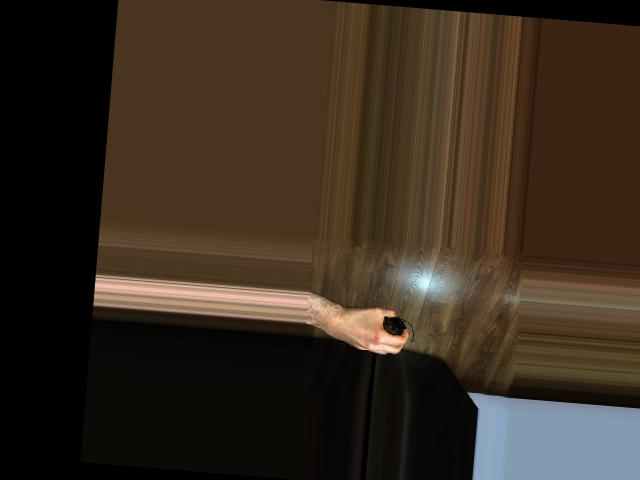beet: (382, 315, 416, 342)
